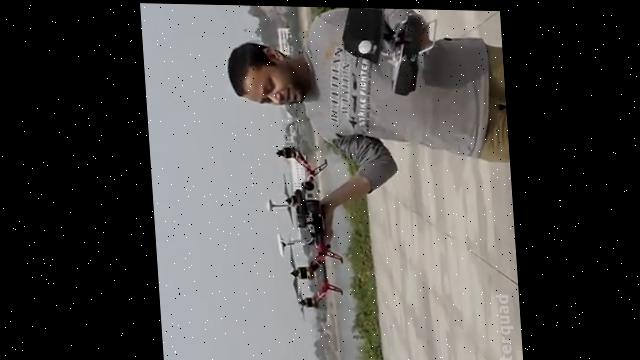drone: (257, 140, 347, 324)
